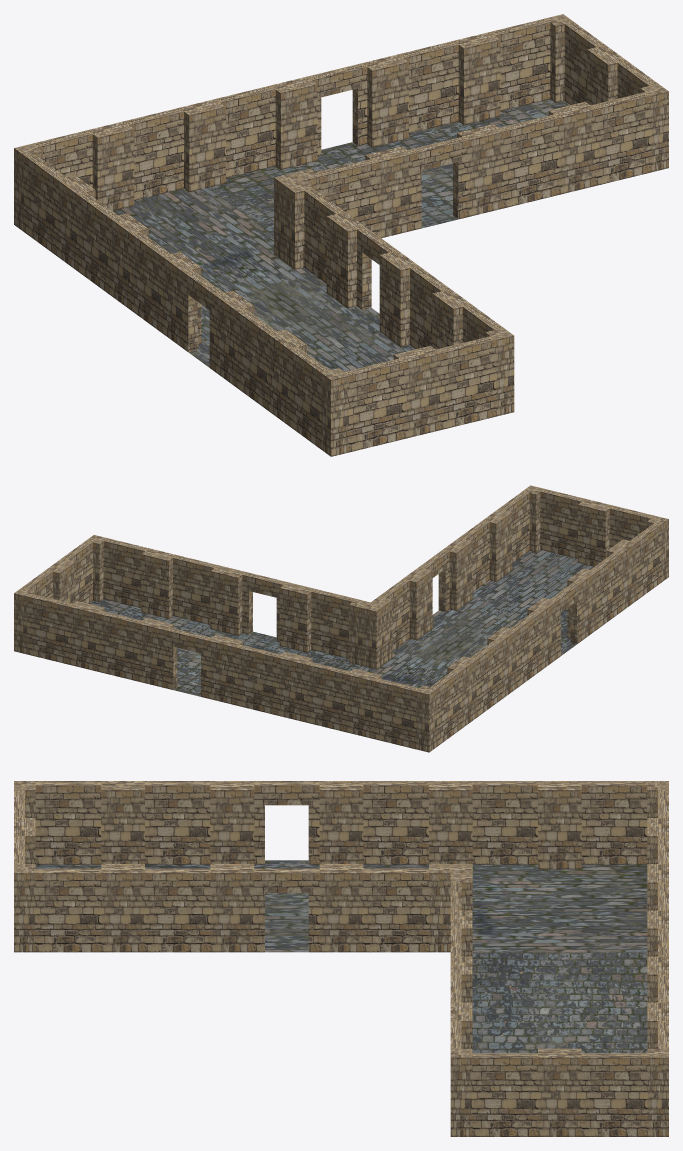
The model's file is 1_2wideLRoom.fbx.
3 views of the same model, one above another, from view 1: azimuth 30°, elevation 25°; view 2: azimuth 150°, elevation 25°; view 3: azimuth 270°, elevation 25° (orthographic). The views are drawn at different scales.
Parts seen in each view (by area): view 1: Cube_44, Plane_1; view 2: Cube_44, Plane_1; view 3: Cube_44, Plane_1.
Part boxes in pixels (x1=…): Cube_44: x1=14, y1=14, x2=668, y2=456; Plane_1: x1=112, y1=99, x2=570, y2=371; Cube_44: x1=14, y1=485, x2=668, y2=752; Plane_1: x1=89, y1=549, x2=594, y2=696; Cube_44: x1=14, y1=781, x2=668, y2=1136; Plane_1: x1=35, y1=860, x2=647, y2=1053.
Bounding box in the file's own units: 60 × 8 × 60.
2 materials, 2 textured.
